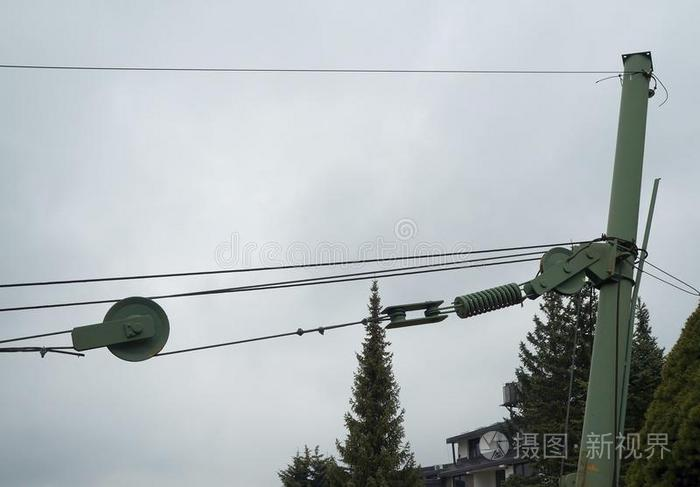insulator: (457, 283, 523, 320)
